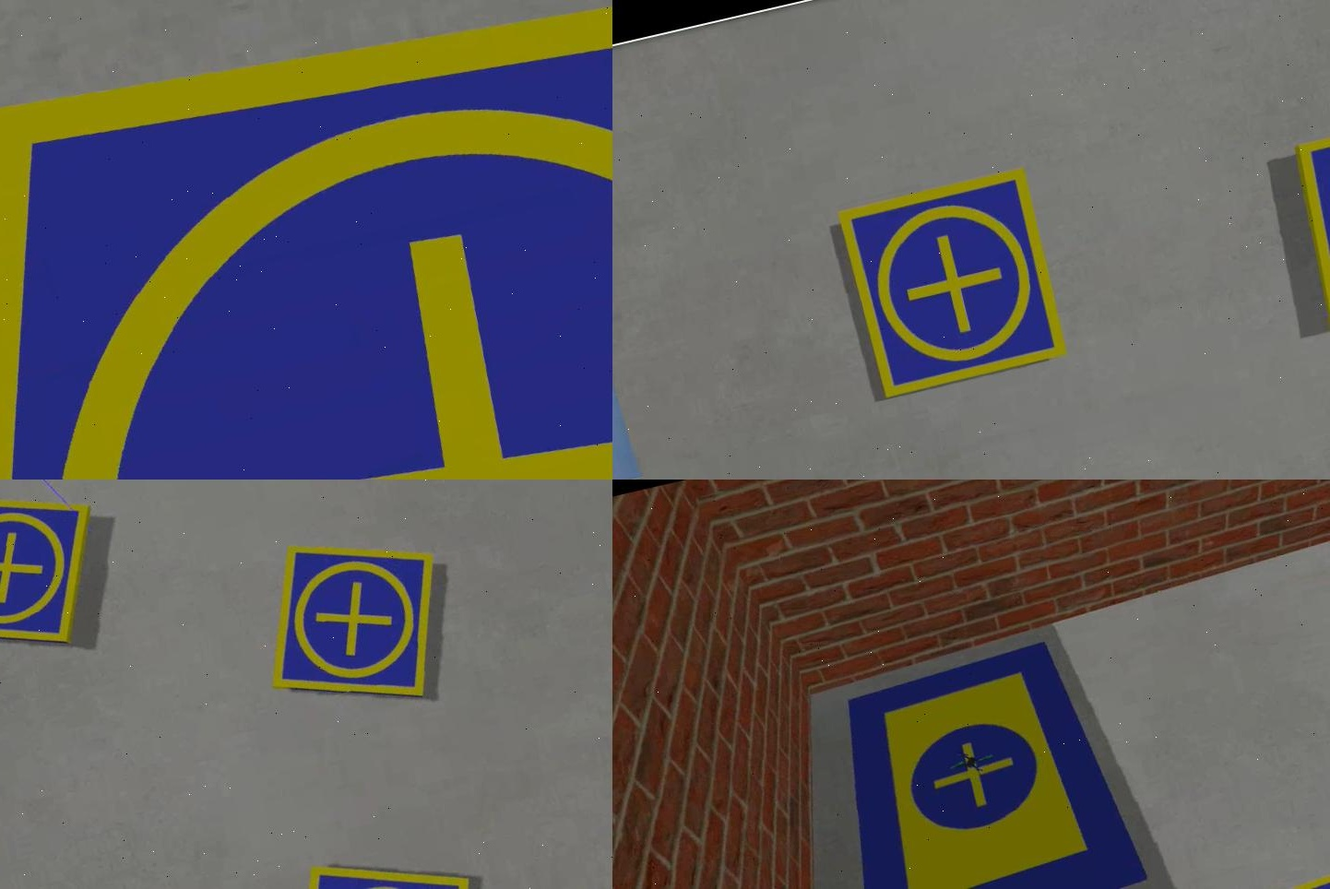large_base: (799, 623, 1152, 889)
small_base: (0, 1, 611, 480), (834, 163, 1068, 398), (242, 513, 461, 730), (0, 480, 118, 677), (261, 828, 507, 889)
